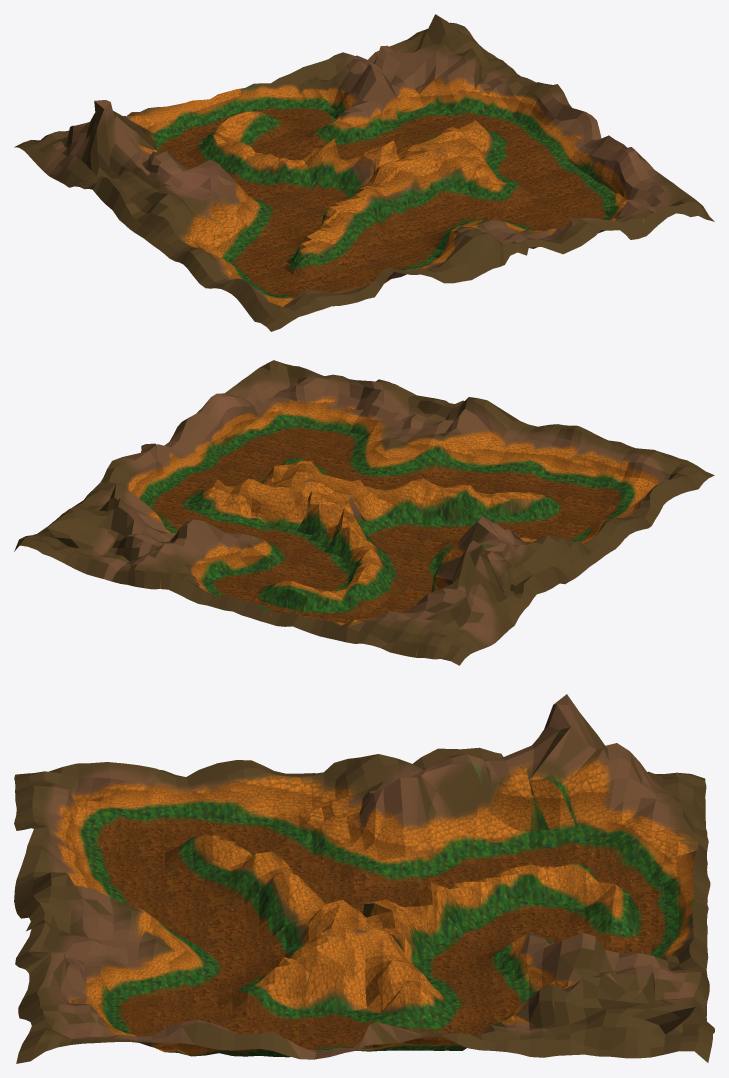
Rendered from RaceTrack.fbx.
3 views of the same model, one above another, from view 1: azimuth 30°, elevation 25°; view 2: azimuth 150°, elevation 25°; view 3: azimuth 270°, elevation 25° (orthographic). The views are drawn at different scales.
Parts seen in each view (by area): view 1: Plane; view 2: Plane; view 3: Plane.
Part boxes in pixels (x1=…): Plane: x1=14, y1=14, x2=714, y2=331; Plane: x1=14, y1=360, x2=714, y2=665; Plane: x1=14, y1=694, x2=714, y2=1063.
Bounding box in the file's own units: 101 × 18.51 × 102.
